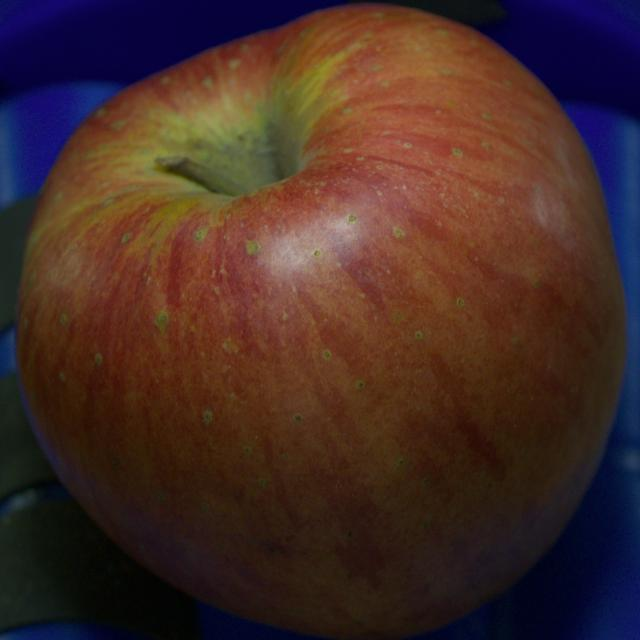apple: (14, 4, 625, 639)
